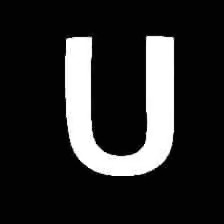LTR_U: (52, 21, 185, 180)
